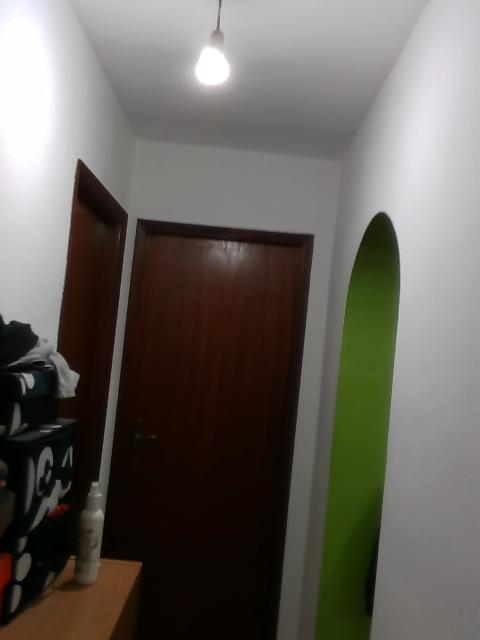door: (114, 234, 301, 640)
